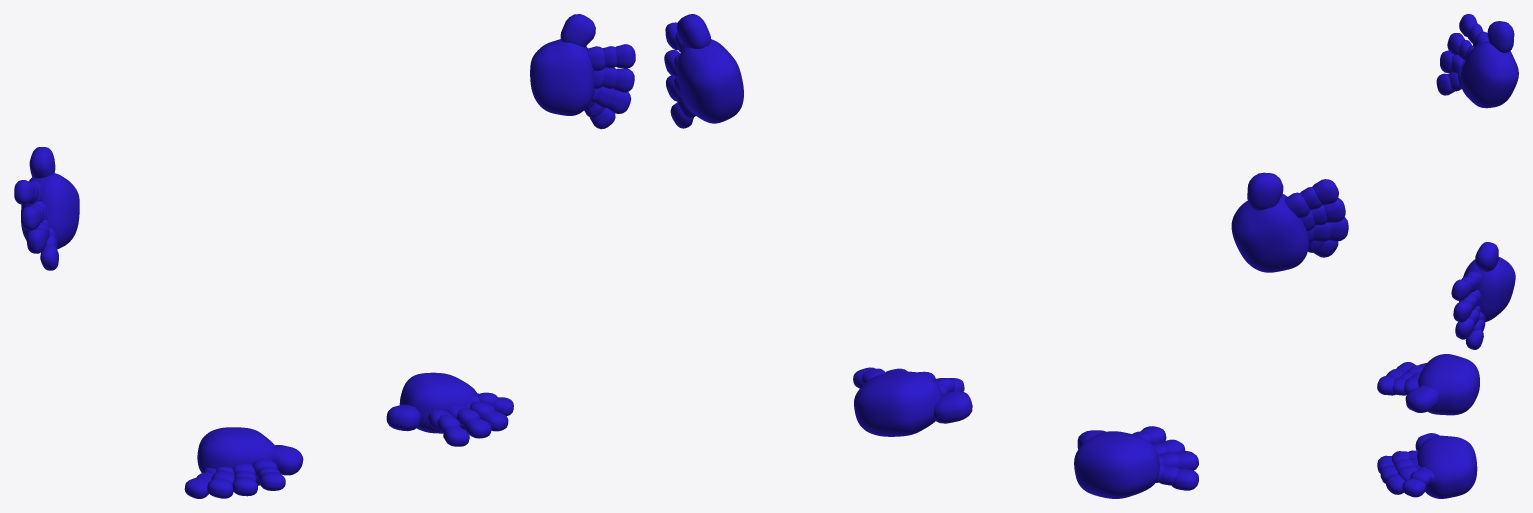
File: zone5-singe-blue.gltf
3 views of the same model, side by side, from view 1: azimuth 30°, elevation 25°; view 2: azimuth 150°, elevation 25°; view 3: azimuth 270°, elevation 25° (orthographic). The views are drawn at different scales.
Visible parts, largest first — view 1: Pieds et main; view 2: Pieds et main; view 3: Pieds et main.
Boxes of the visible parts, x1,y1,x2,y2 form: Pieds et main: (14, 14, 635, 498); Pieds et main: (664, 14, 1348, 498); Pieds et main: (1377, 14, 1518, 498).
Size of the model in its own units: 5.45 by 3.07 by 1.22.
